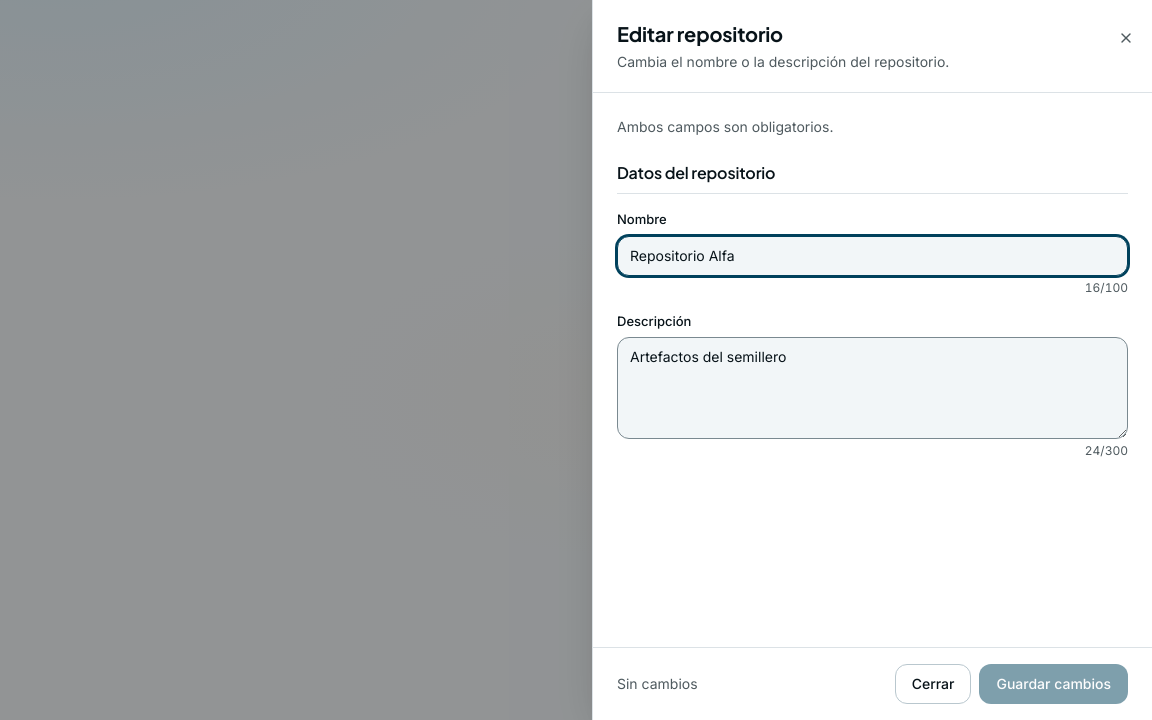
Test: ModificarRepositorioPanel › ante un nombre duplicado avisa con toast, marca el campo y deja el panel abierto
Replace the text in the text box labelled "Descripción" with "Nueva descripción" at (872, 388), box x1=617 y1=337 x2=1128 y2=439
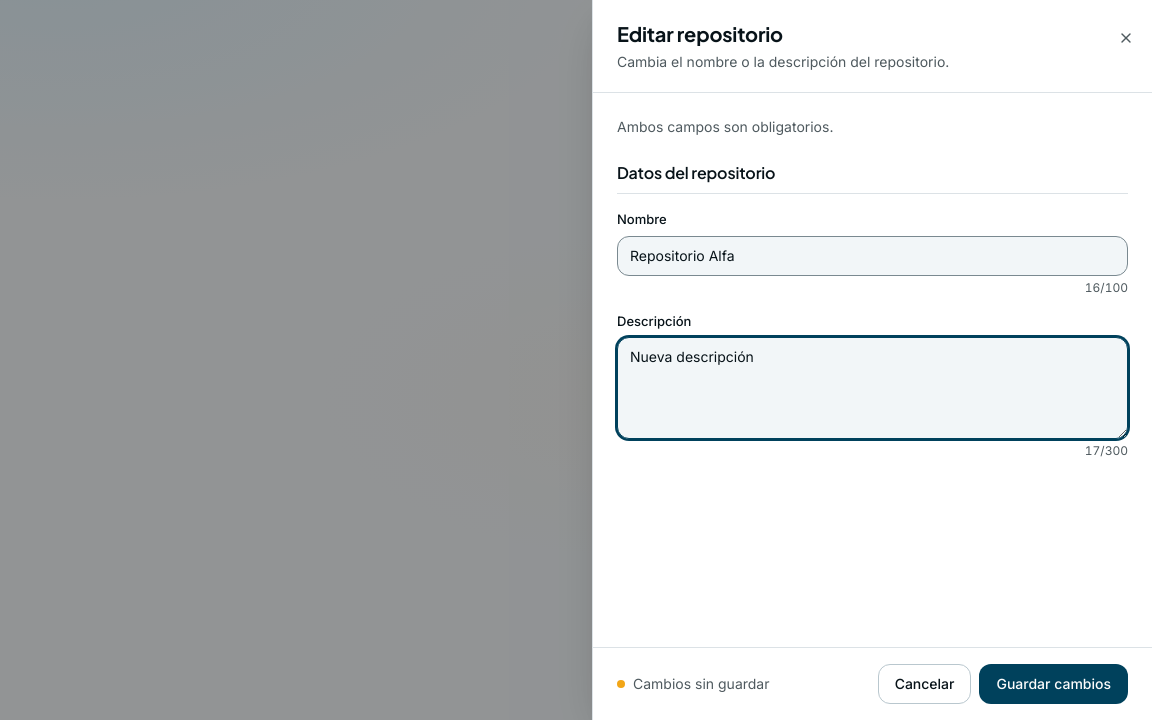
Click the button "Guardar cambios" at (1054, 684), box x1=980 y1=664 x2=1128 y2=704
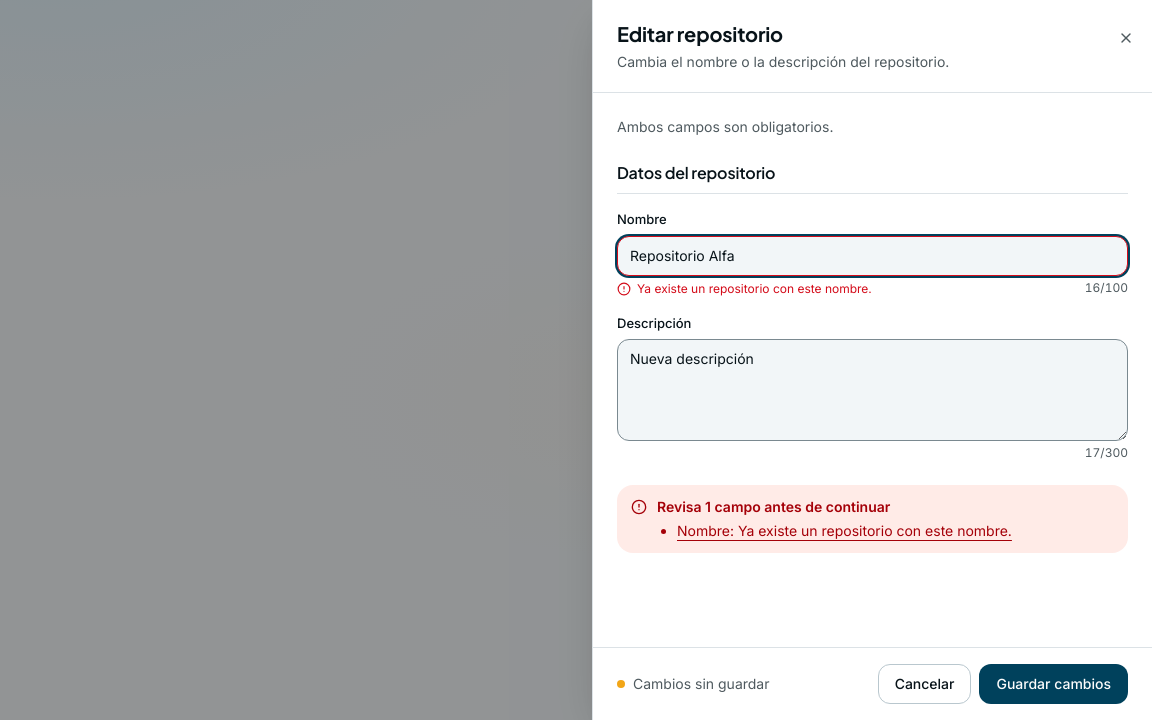
Check: the text "Ya existe un repositorio con este nombre." is shown, box x1=617 y1=280 x2=872 y2=298
